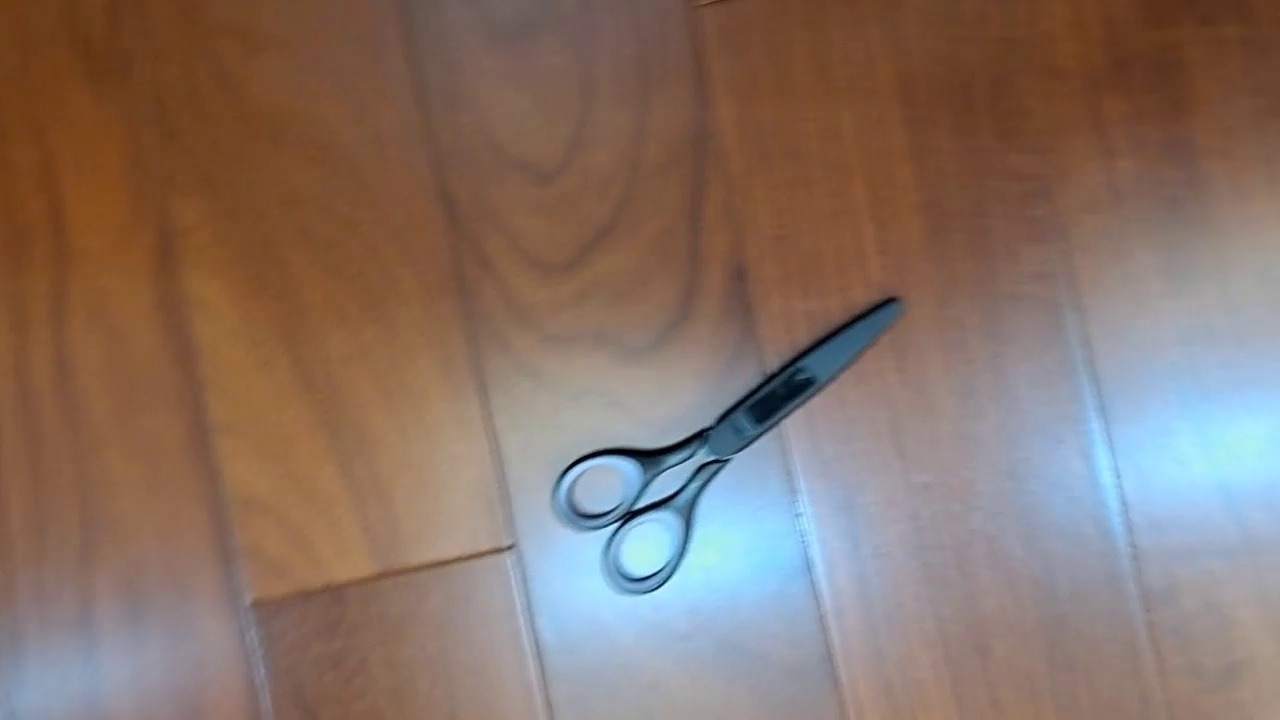scissors: (549, 294, 908, 597)
